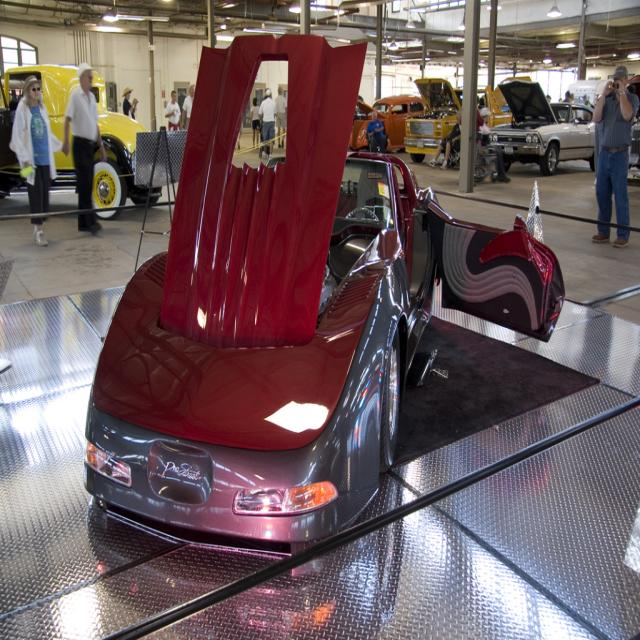car: (84, 70, 560, 563)
